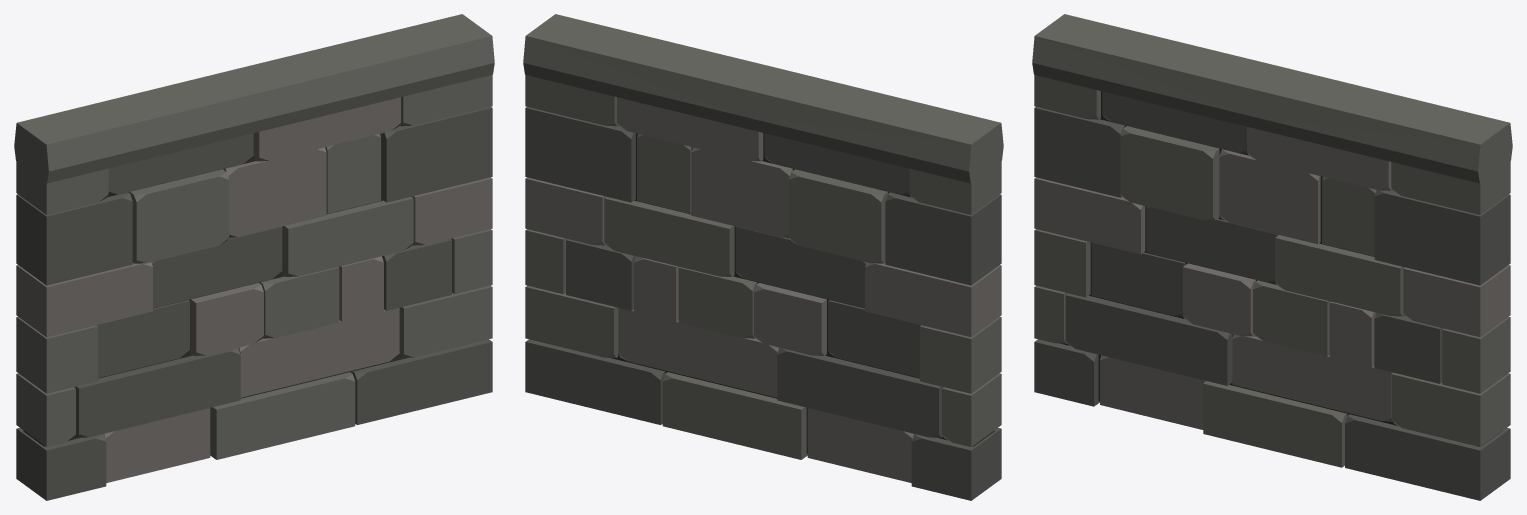
The model's file is Wall05.fbx.
3 renders of one model, left to right at view 1: azimuth 30°, elevation 25°; view 2: azimuth 150°, elevation 25°; view 3: azimuth 330°, elevation 25°, orthographic.
Parts seen in each view (by area): view 1: Object; view 2: Object; view 3: Object.
Boxes of the visible parts, box(x1,y1,x2,y2) form: Object: box(14, 14, 494, 500); Object: box(523, 14, 1003, 500); Object: box(1032, 14, 1512, 500).
Size of the model in its own units: 200 by 153 by 27.03.
